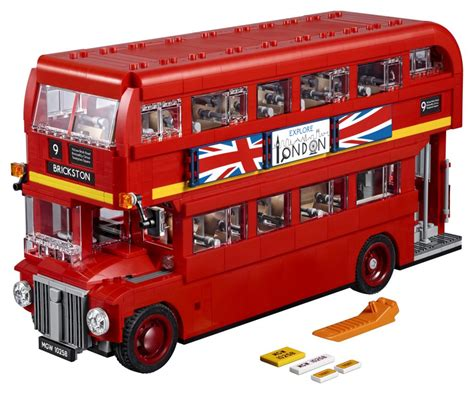bus: (24, 14, 462, 360)
